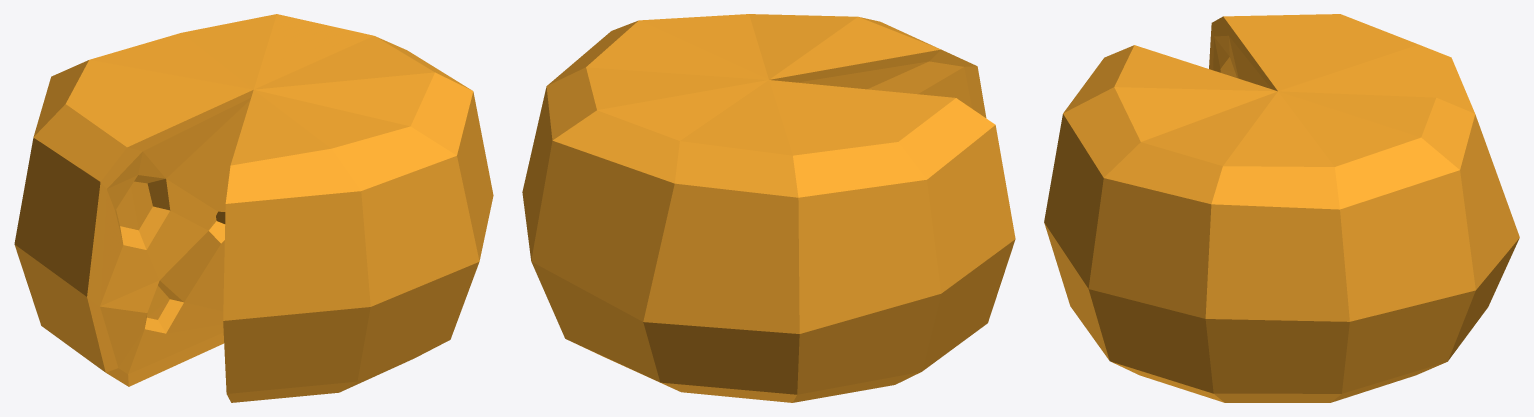
Rendered from SM_Parmesan_Cut_Piece.fbx.
3 renders of one model, left to right at view 1: azimuth 30°, elevation 25°; view 2: azimuth 150°, elevation 25°; view 3: azimuth 270°, elevation 25°, orthographic. The views are drawn at different scales.
Visible parts, largest first — view 1: parmesan-cut-piece; view 2: parmesan-cut-piece; view 3: parmesan-cut-piece.
Boxes of the visible parts, <box> form: parmesan-cut-piece: <box>14,14,493,402</box>; parmesan-cut-piece: <box>522,14,1015,402</box>; parmesan-cut-piece: <box>1044,14,1519,402</box>.
Size of the model in its own units: 0.4486 by 0.2555 by 0.4558.
